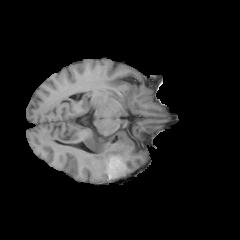glioma: (85, 132, 137, 182)
